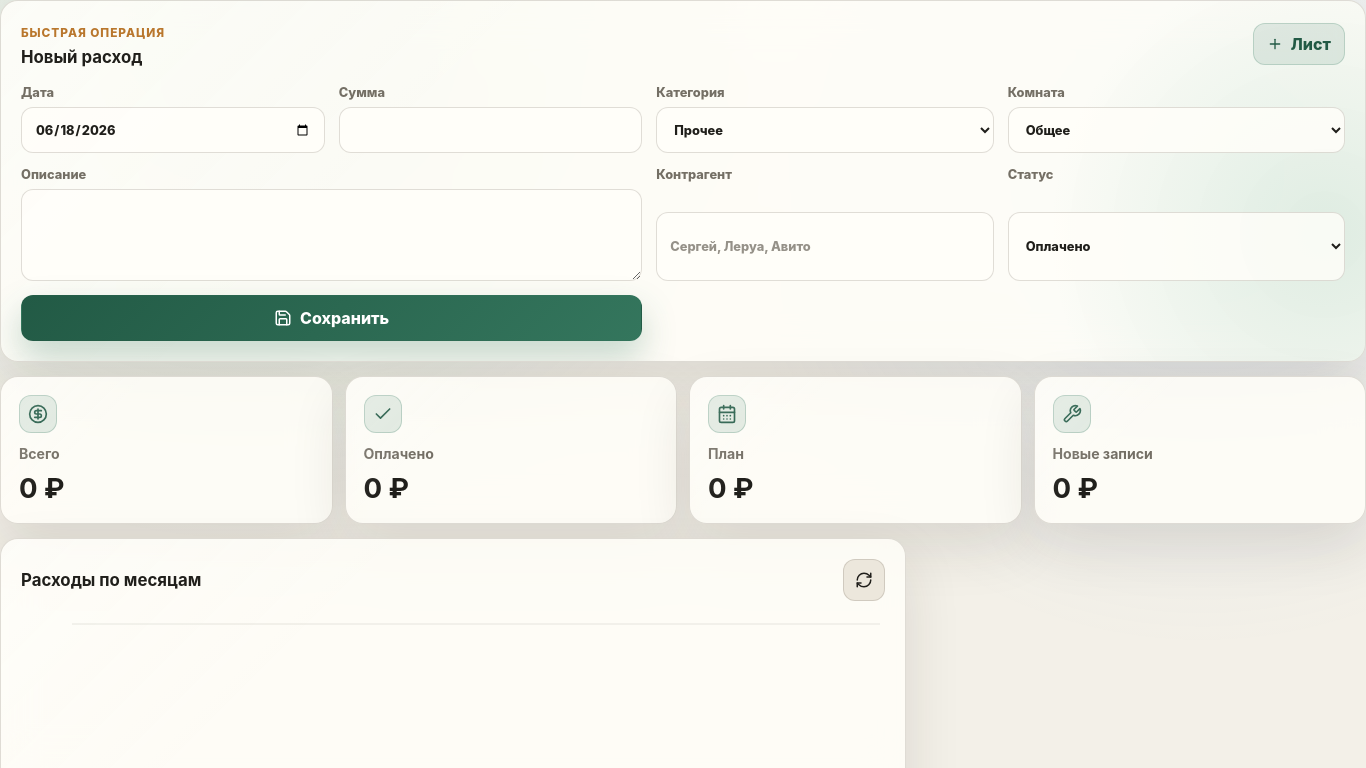
Test: FinanceDashboard › submits an expense and resets the draft
This screenshot has width=1366, height=768.
Check: the heading "Новый расход" is shown, box left=21, top=47, right=142, bottom=67
In the number field labelled "Сумма": (490, 130) left=339, top=107, right=642, bottom=153, type "12500"
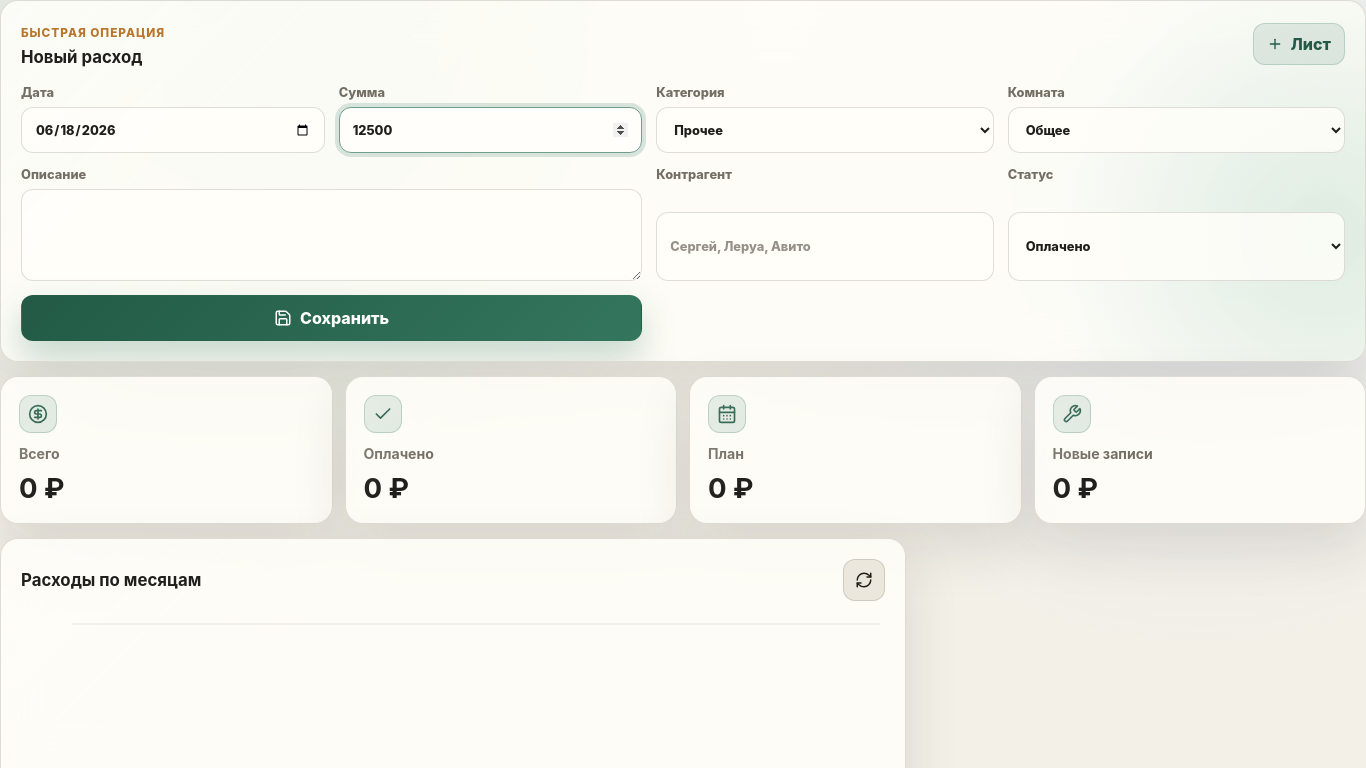
In the text box labelled "Описание": (332, 235) left=21, top=189, right=642, bottom=281, type "Светильники"
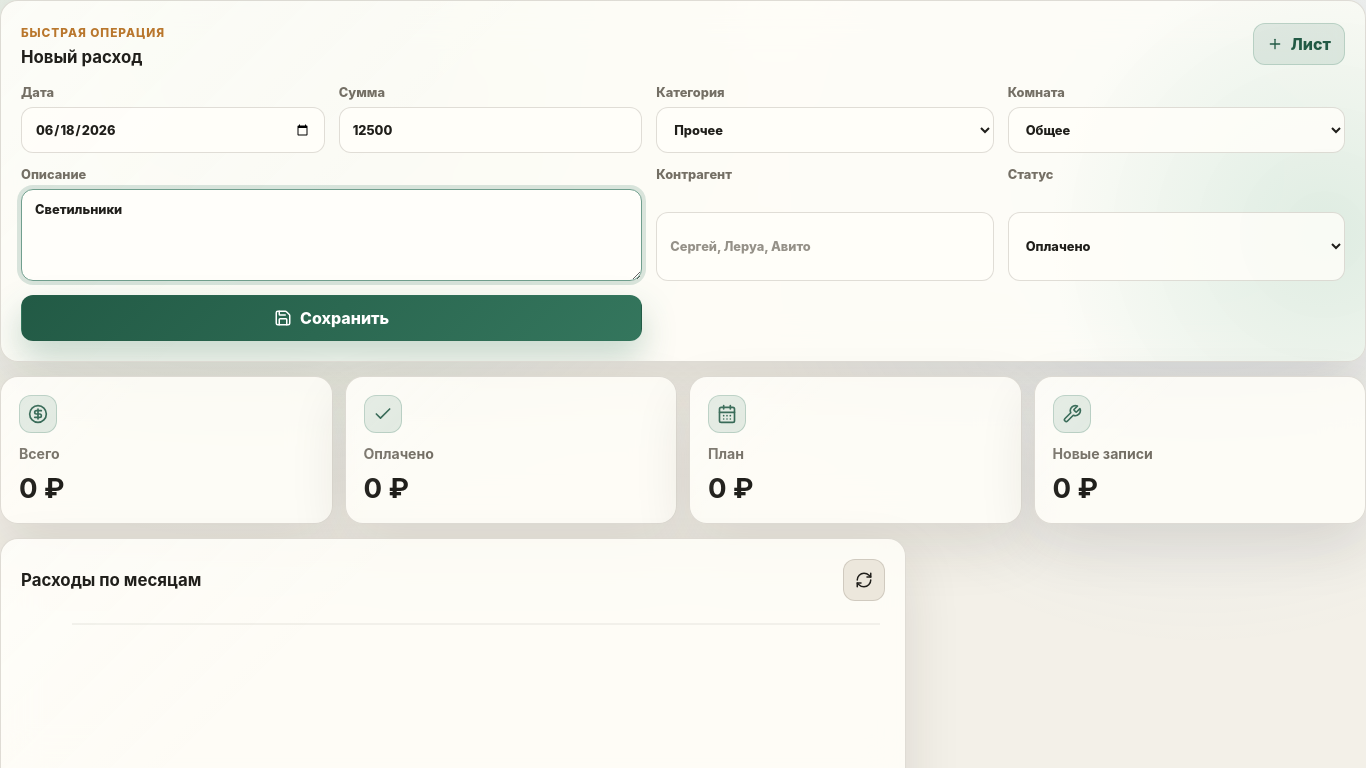
In the field labelled "Контрагент": (825, 247) left=656, top=212, right=994, bottom=281, type "Магазин света"
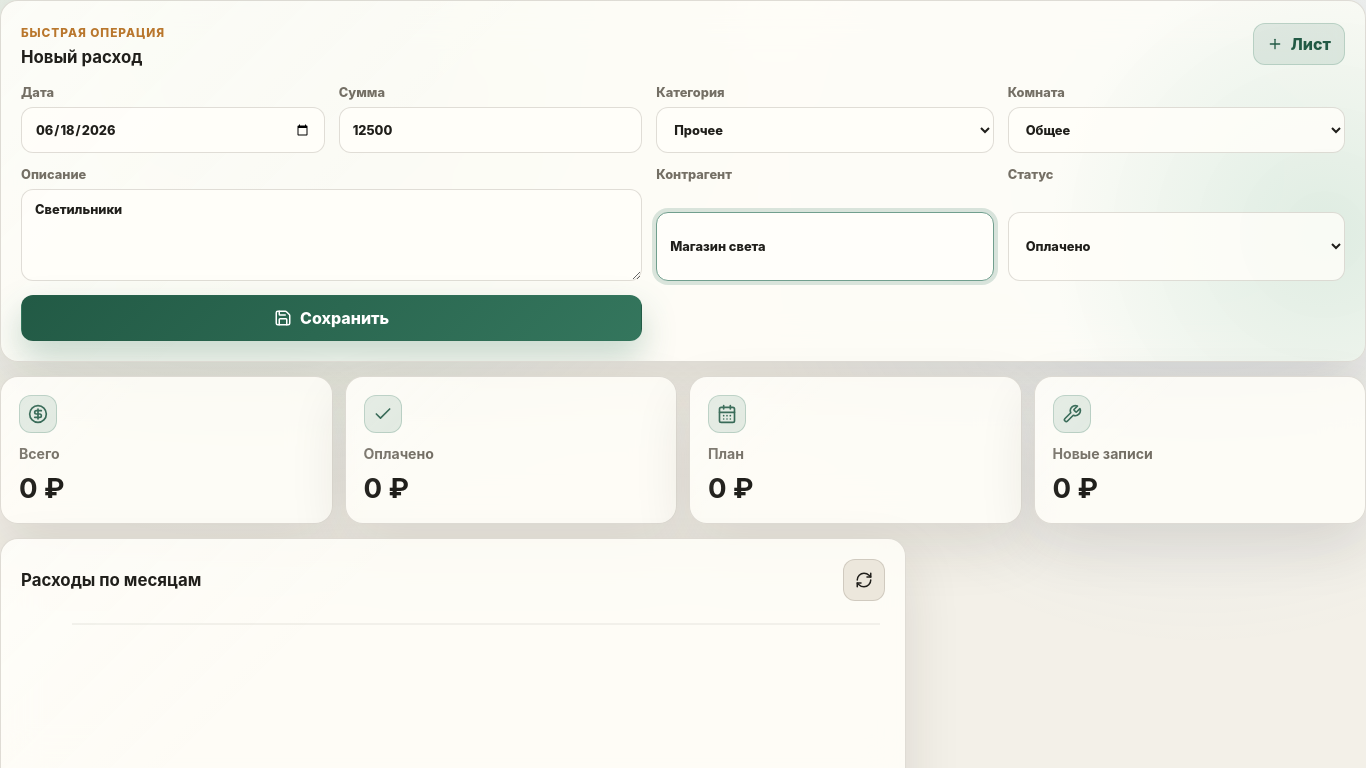
Click the button "Сохранить": (332, 318) left=21, top=295, right=642, bottom=341
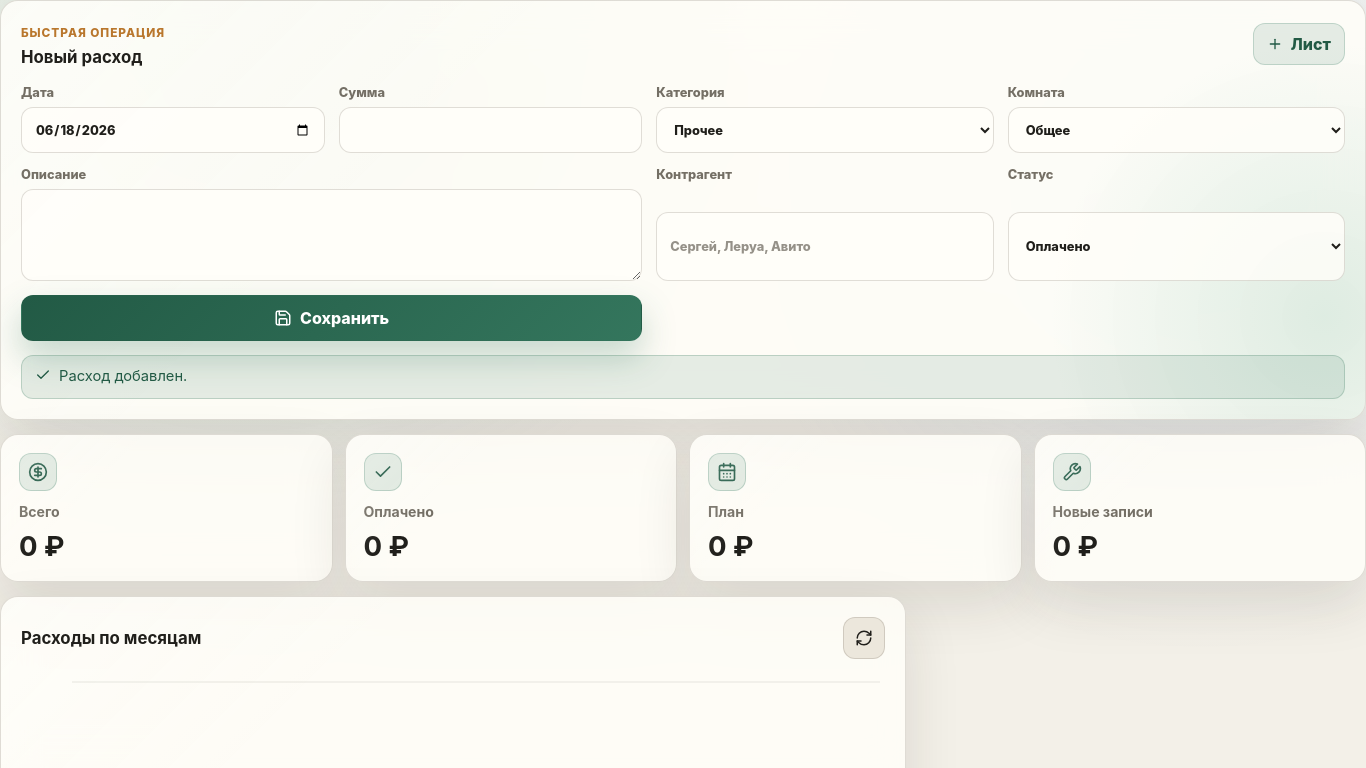
Check: the text "Расход добавлен." is shown, box left=21, top=355, right=1345, bottom=399
Check: the number field labelled "Сумма" is not empty, box left=339, top=107, right=642, bottom=153
Check: the text box labelled "Описание" is empty, box left=21, top=189, right=642, bottom=281
